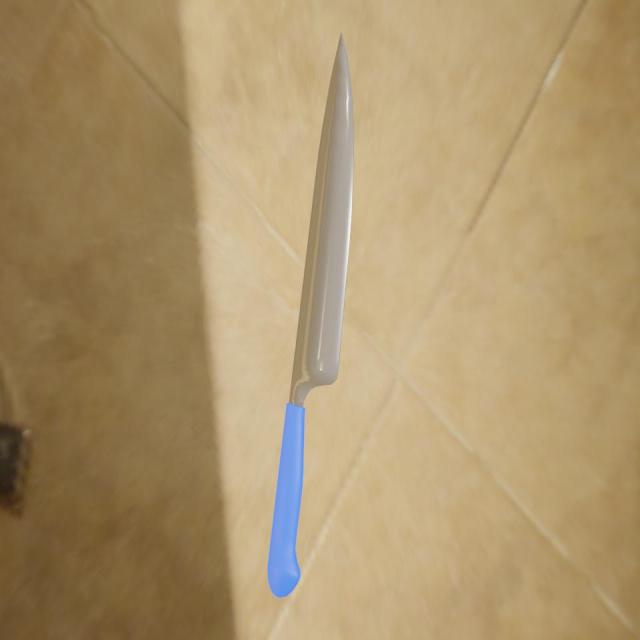knife: (267, 402, 305, 600)
